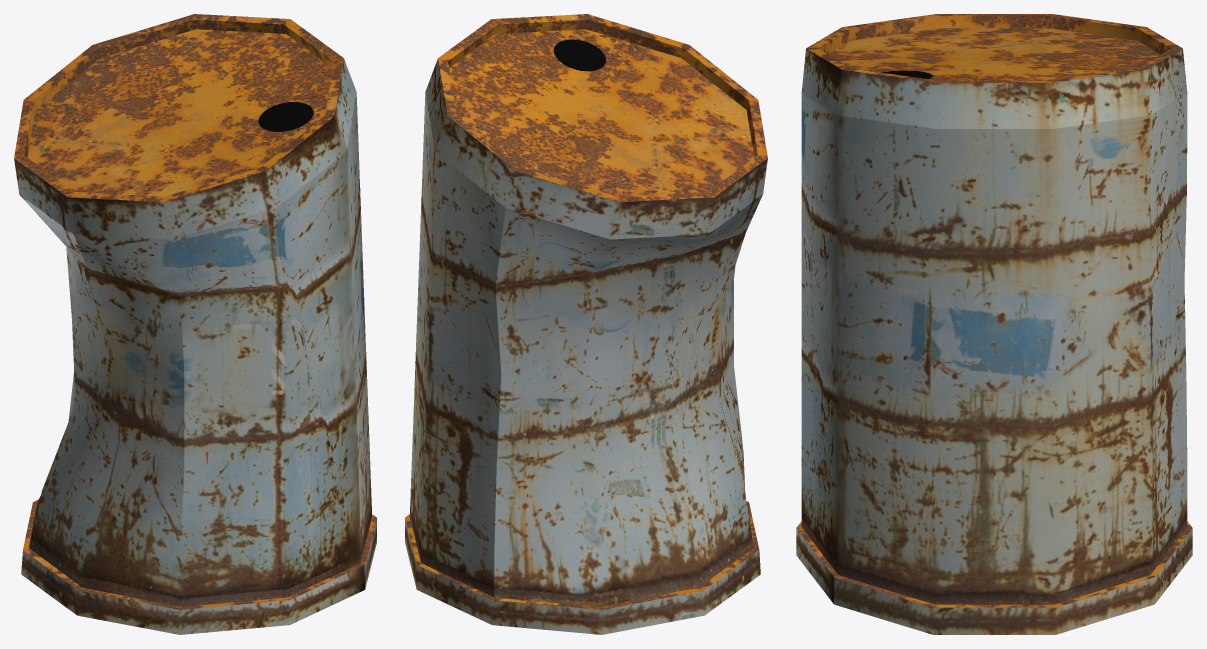
File: barrel_2.fbx
The picture shows the model from 3 angles, left to right: view 1: azimuth 30°, elevation 25°; view 2: azimuth 150°, elevation 25°; view 3: azimuth 270°, elevation 25°; orthographic projection. The views are drawn at different scales.
Parts seen in each view (by area): view 1: Cube; view 2: Cube; view 3: Cube.
Part boxes in pixels (x1,y1,x2,y2): Cube: (14, 14, 376, 634); Cube: (405, 14, 767, 634); Cube: (796, 14, 1192, 634).
Size of the model in its own units: 95.3 by 145 by 97.43.
Materials: 1 (1 with a texture image).
